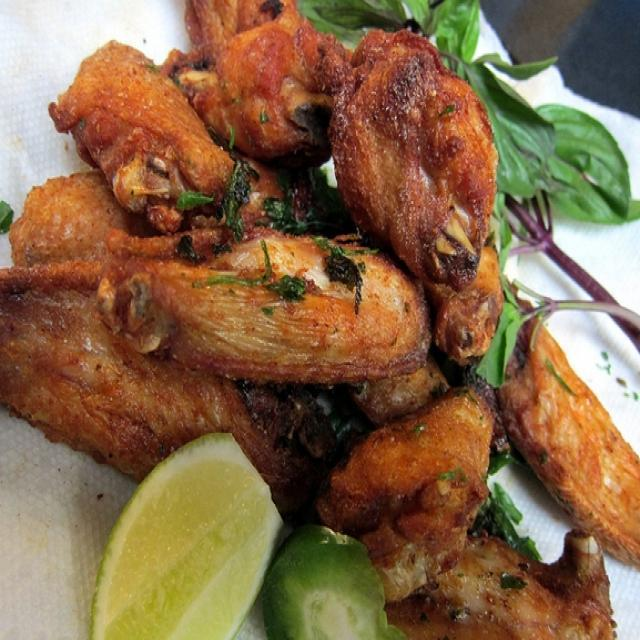Deep fried chicken wing: (8, 24, 609, 611)
